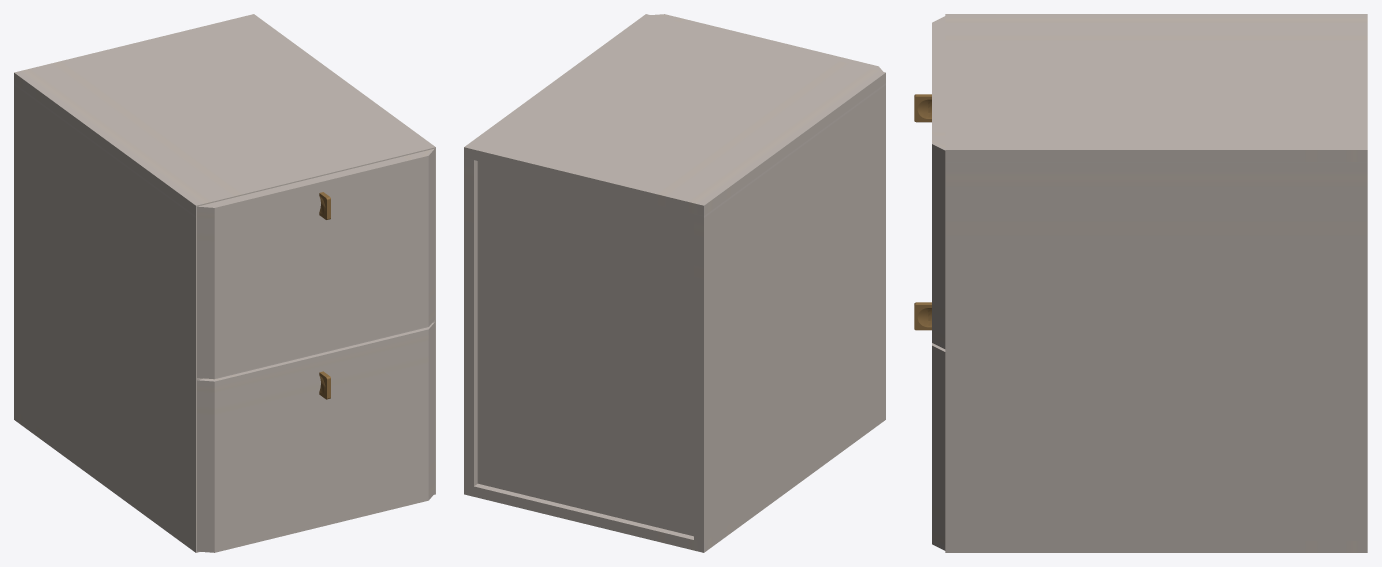
3 renders of one model, left to right at view 1: azimuth 30°, elevation 25°; view 2: azimuth 150°, elevation 25°; view 3: azimuth 270°, elevation 25°, orthographic. The views are drawn at different scales.
Visible parts, largest first — view 1: Object_55.001; view 2: Object_55.001; view 3: Object_55.001.
Part boxes in pixels (x1=…): Object_55.001: x1=14, y1=14, x2=435, y2=552; Object_55.001: x1=464, y1=14, x2=885, y2=552; Object_55.001: x1=914, y1=14, x2=1367, y2=552.
Bounding box in the file's own units: 0.434 × 0.6 × 0.6121.
Materials: 2 (2 with a texture image).
